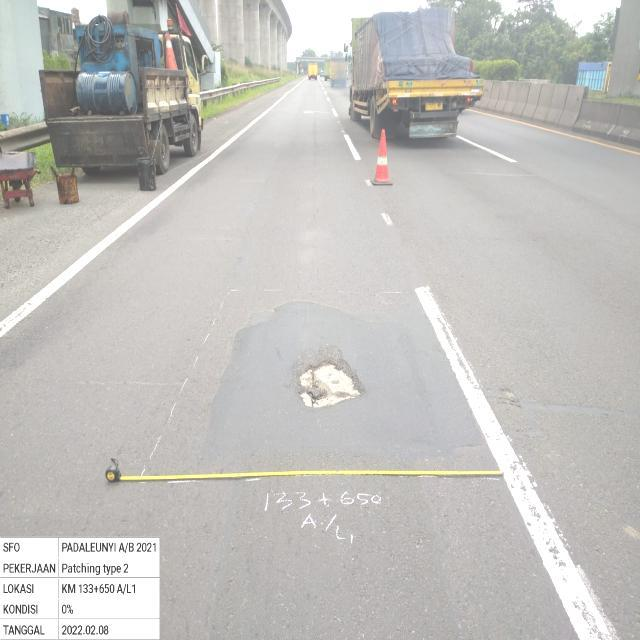Buraco: (291, 356, 368, 412)
